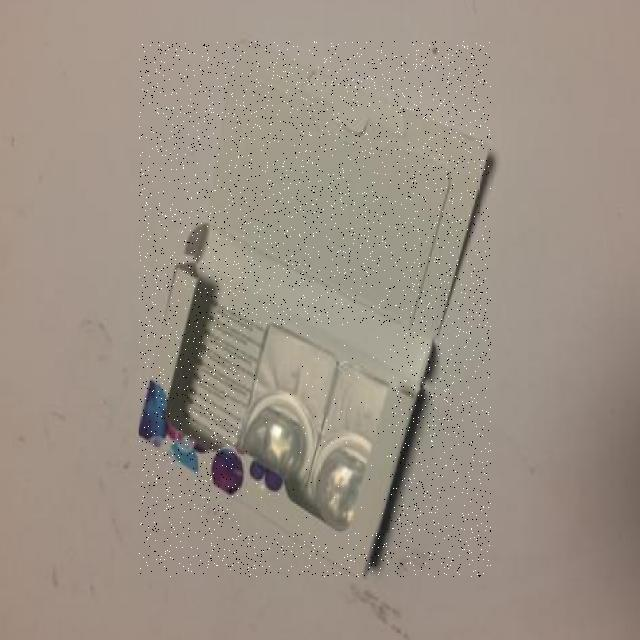metal: (239, 325, 390, 533)
paper: (140, 41, 491, 577)
